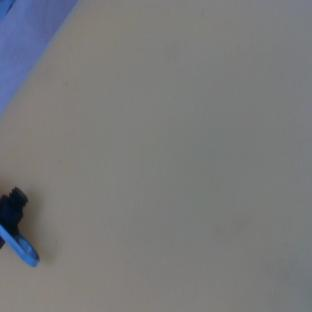part_1_good: (0, 185, 41, 272)
